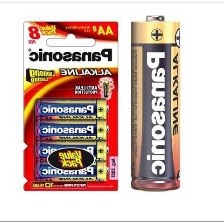battery: (128, 12, 182, 193), (32, 117, 111, 142), (34, 97, 111, 121), (32, 160, 109, 184), (32, 139, 110, 162)
